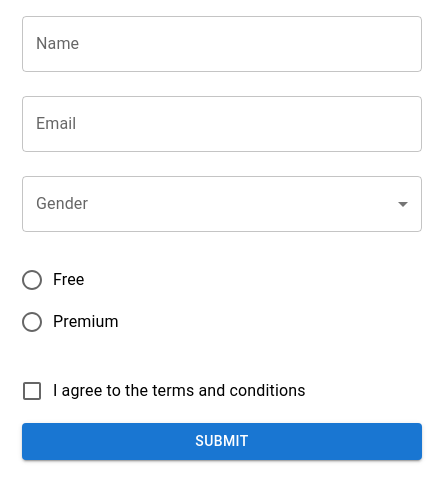
Scenario: MyForm › renders gender dropdown and validates
Press the mouse on the dropdown named "gender" at {"x": 222, "y": 204}, box [22,176,422,232]
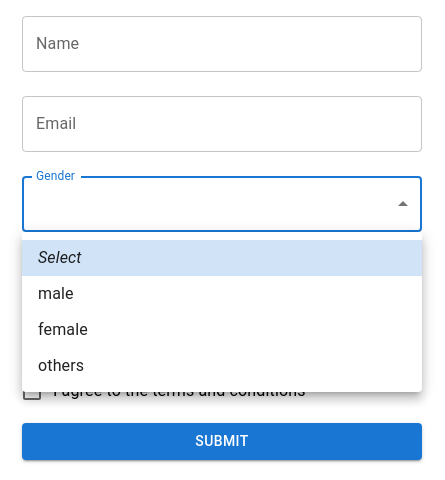
Result: the list is shown at [22,232,422,392]
Result: the option "female" is shown
Click the option "female" at {"x": 63, "y": 330}, box [38,320,88,339]
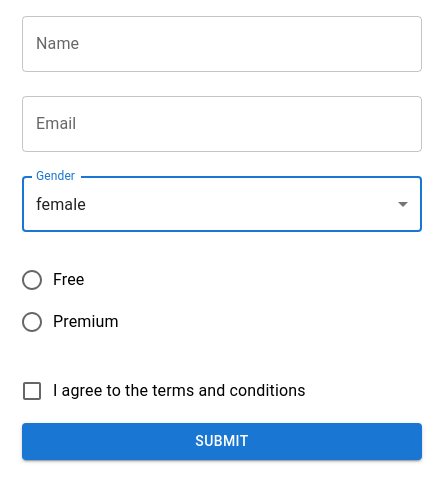
Result: the dropdown named "gender" reads "female" at [36,194,86,214]
